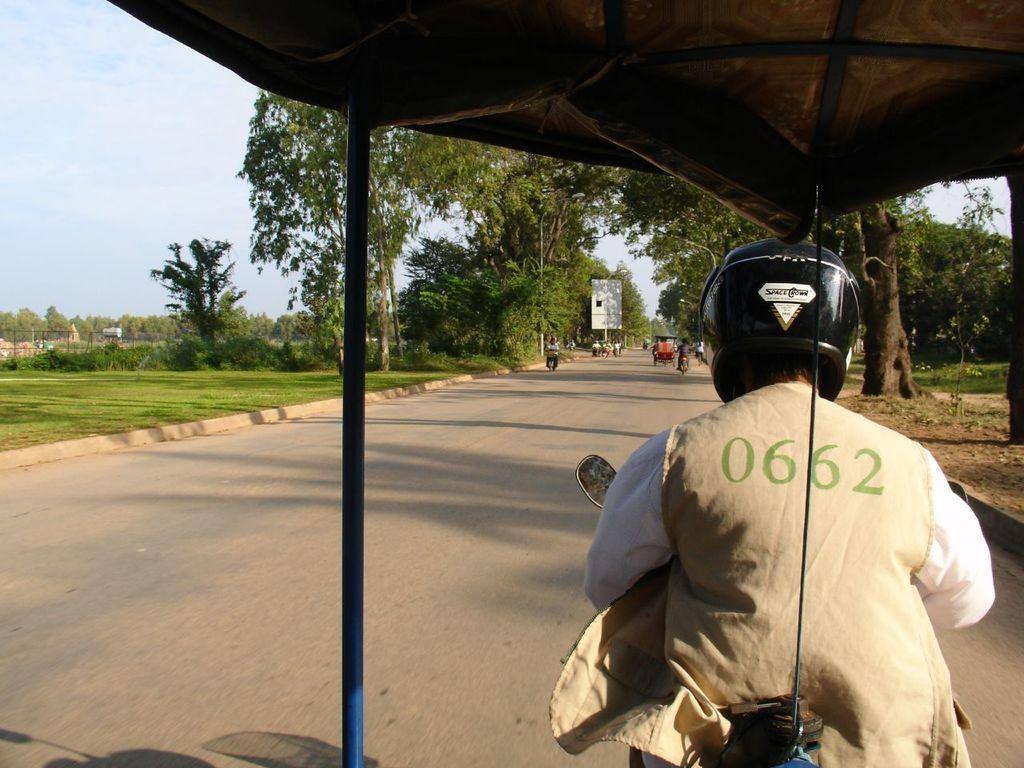helmet: (696, 234, 862, 404)
